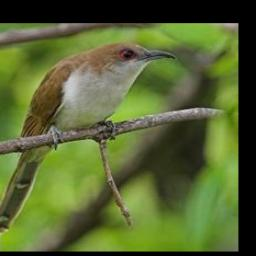Cuckoo: (0, 41, 178, 234)
